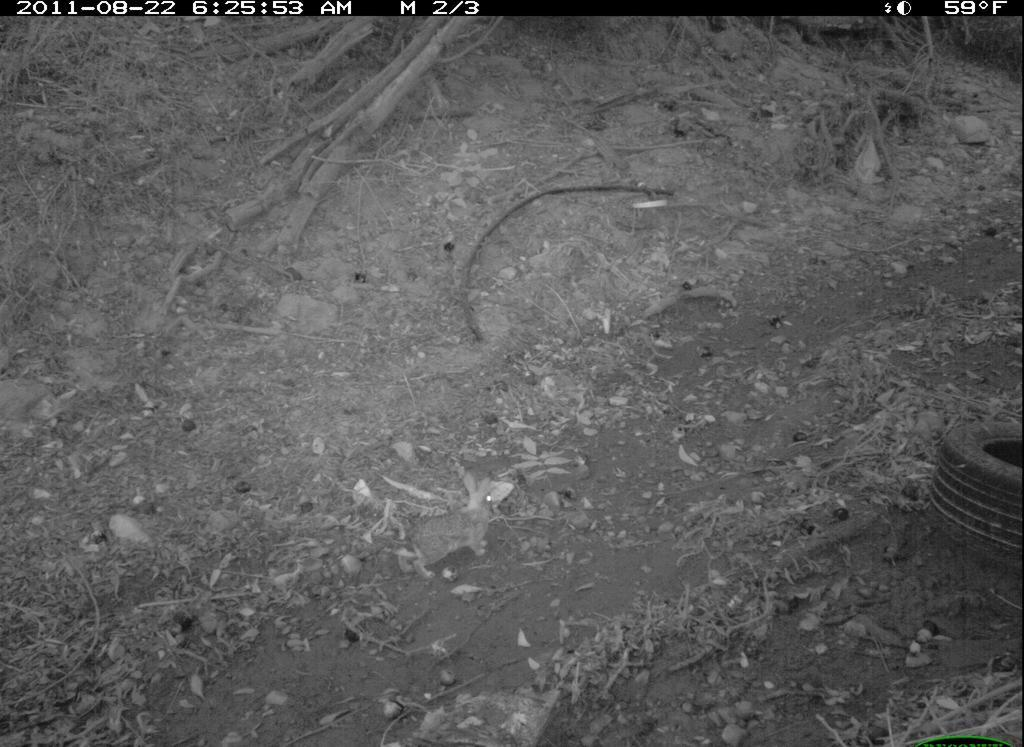rabbit: (399, 477, 520, 582)
